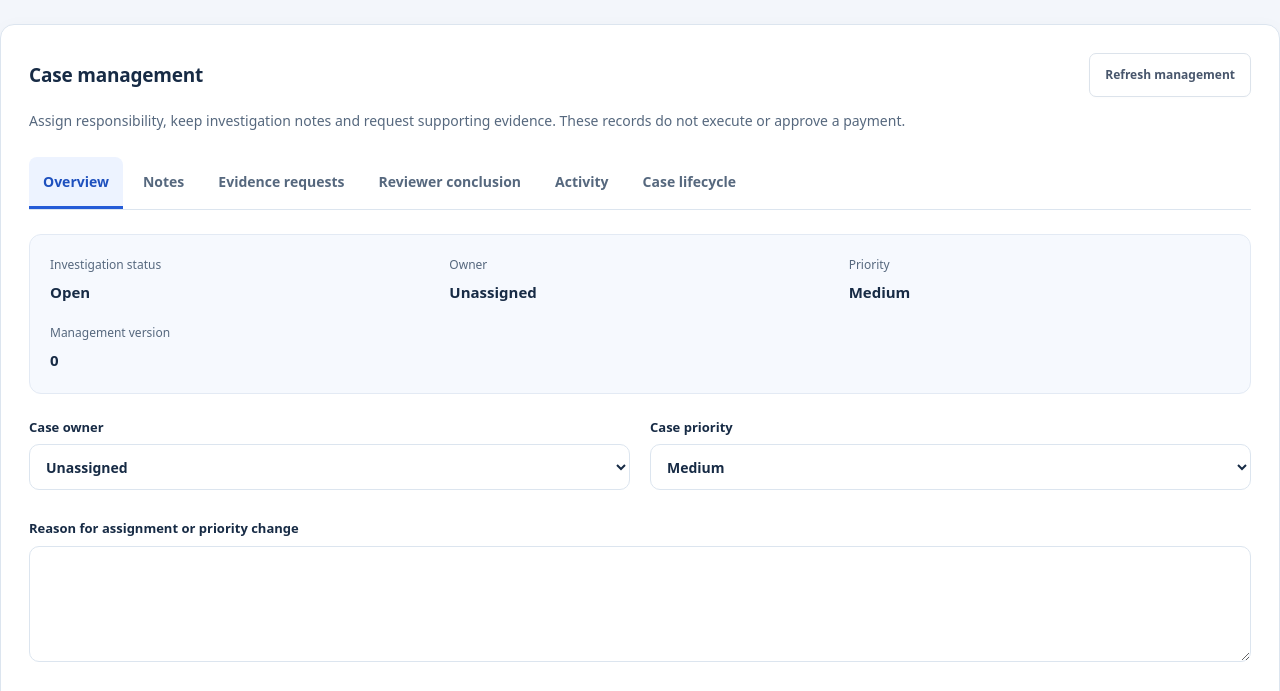
payment case management › saves authorized owner and priority with version, CSRF and a stable command key
Expected: the text "Unassigned" is shown, x1=449 y1=282 x2=537 y2=302
Select "Analyst" in the dropdown labelled "Case owner" at (330, 467), box x1=29 y1=444 x2=630 y2=490
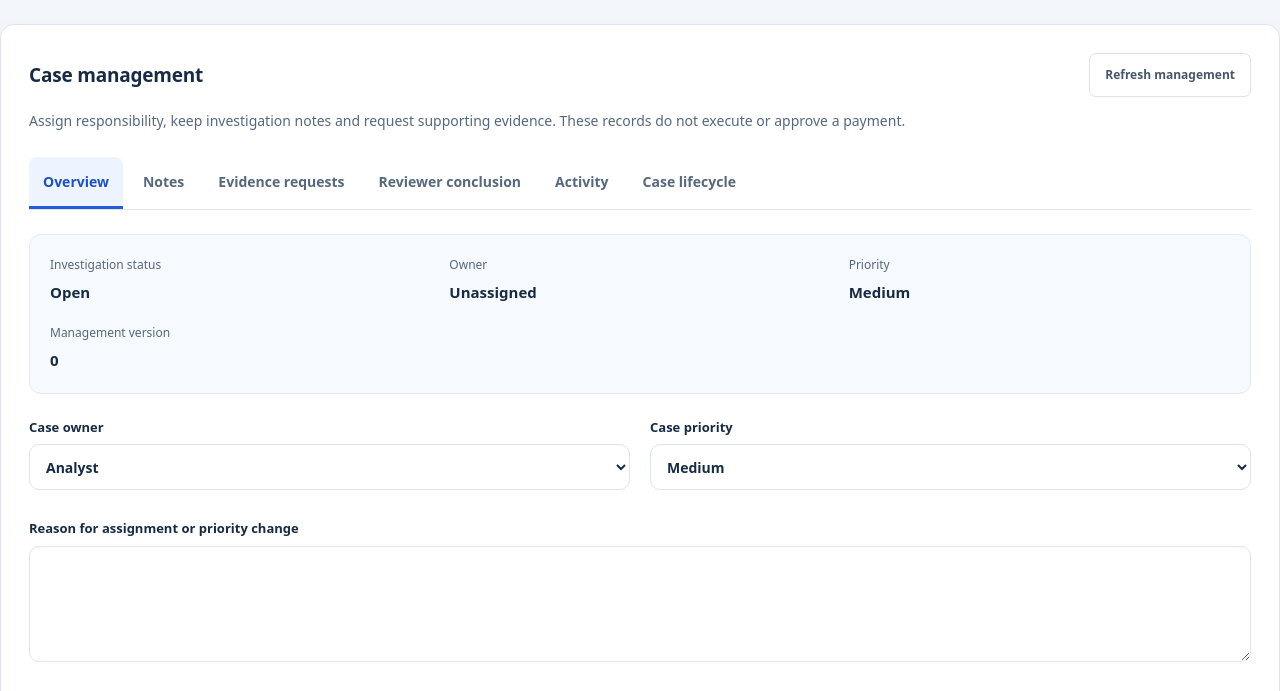
Select "High" in the dropdown labelled "Case priority" at (950, 467), box x1=650 y1=444 x2=1251 y2=490
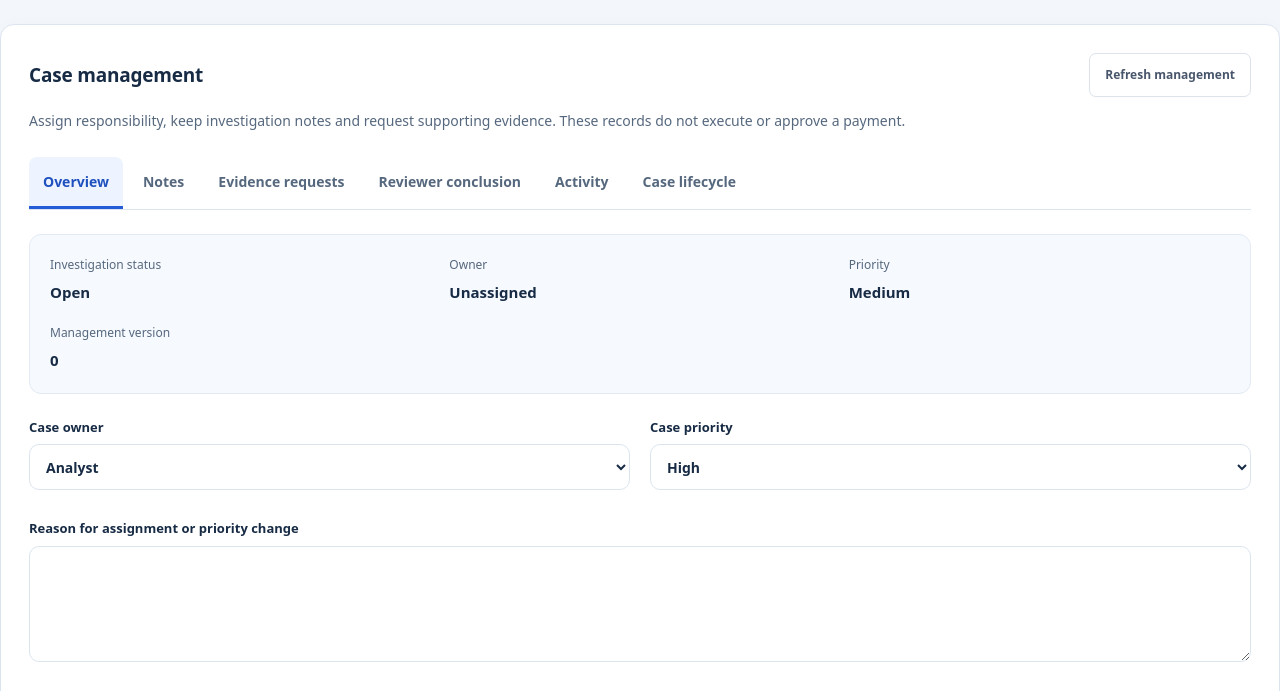
Type "Customer follow-up needed" into the text box labelled "Reason for assignment or priority change" at (640, 604), box x1=29 y1=546 x2=1251 y2=662
(page scrolled)
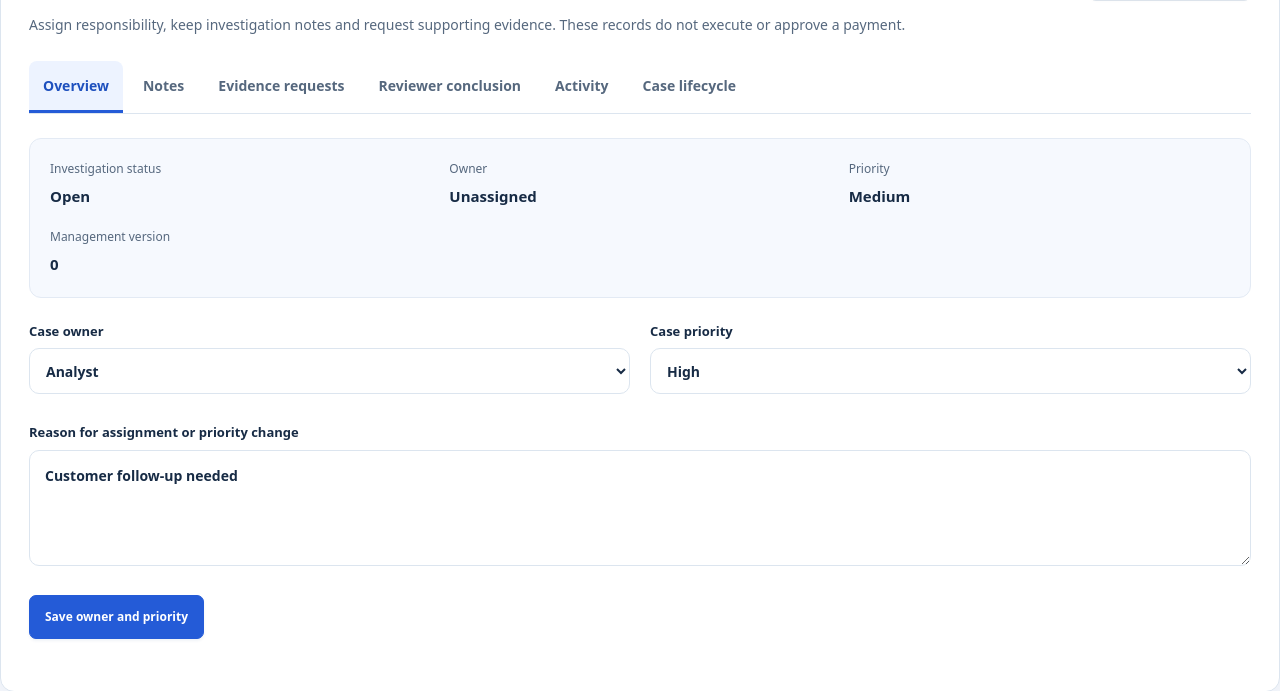
Click the button "Save owner and priority" at (116, 617), box x1=29 y1=595 x2=204 y2=639
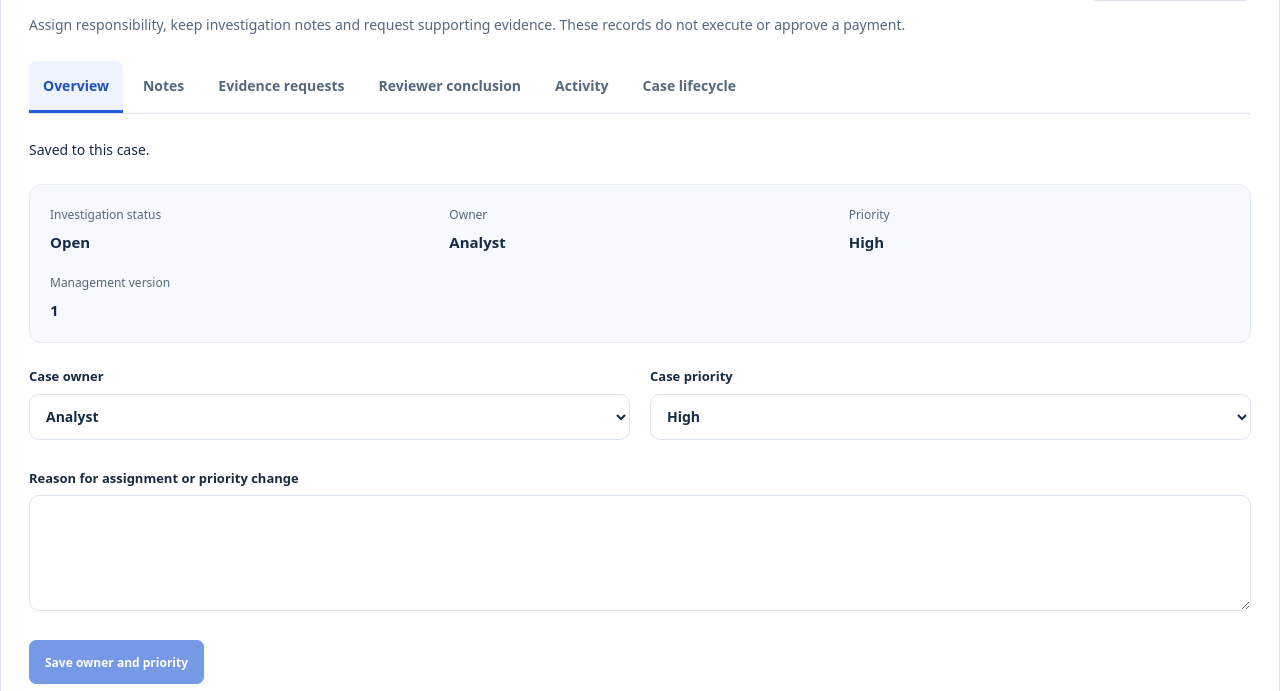
Expected: the text "Saved to this case." is shown, x1=29 y1=140 x2=150 y2=159
Expected: the text box labelled "Reason for assignment or priority change" is empty, x1=29 y1=496 x2=1251 y2=612
